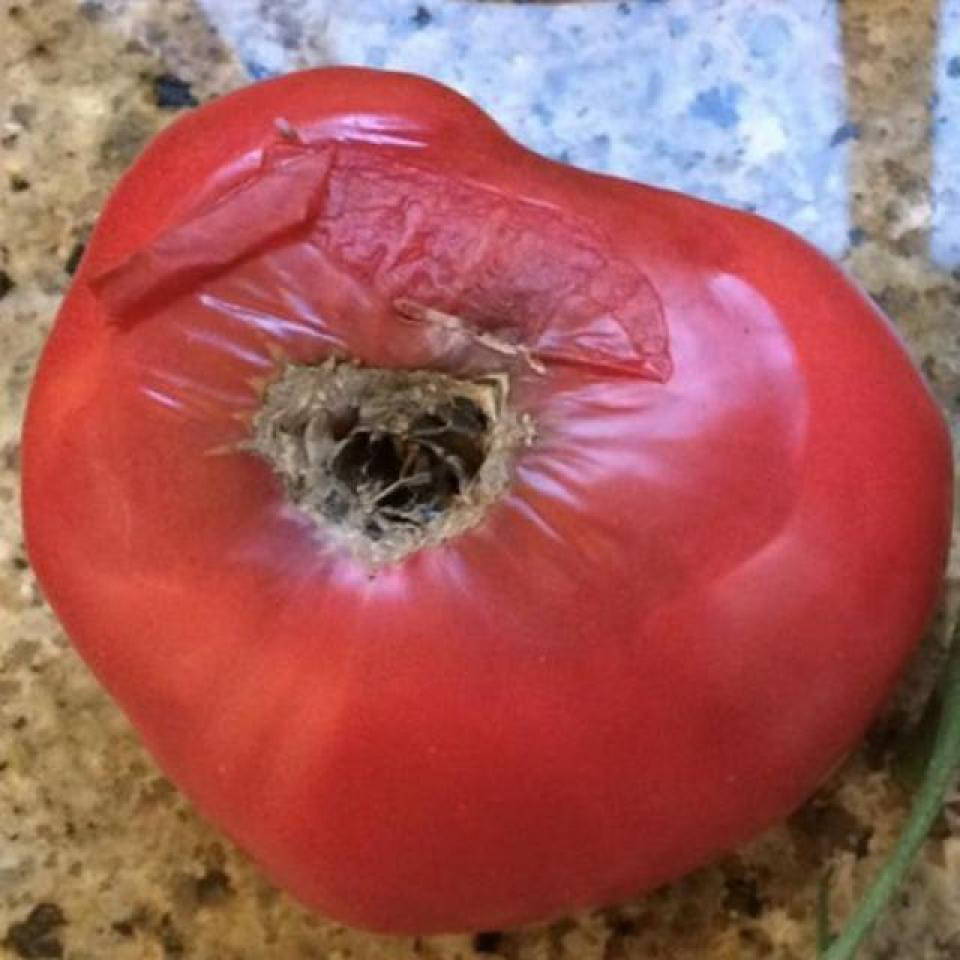Blossom_end_rot: (206, 287, 552, 587)
